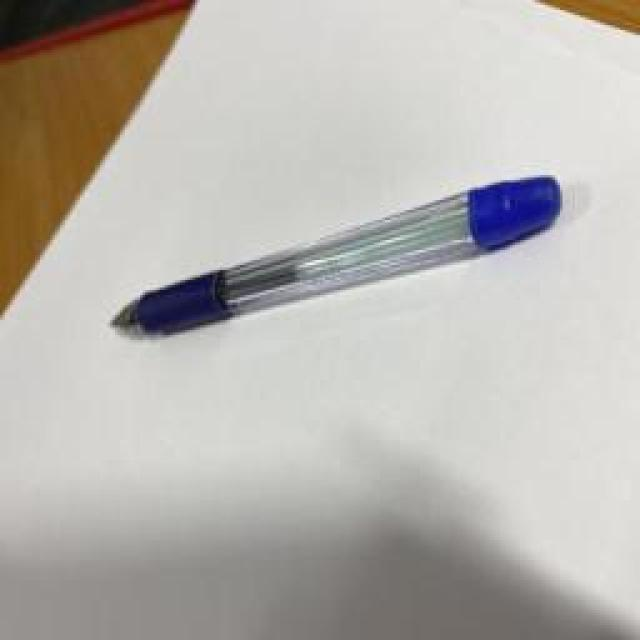pen: (107, 165, 565, 345)
